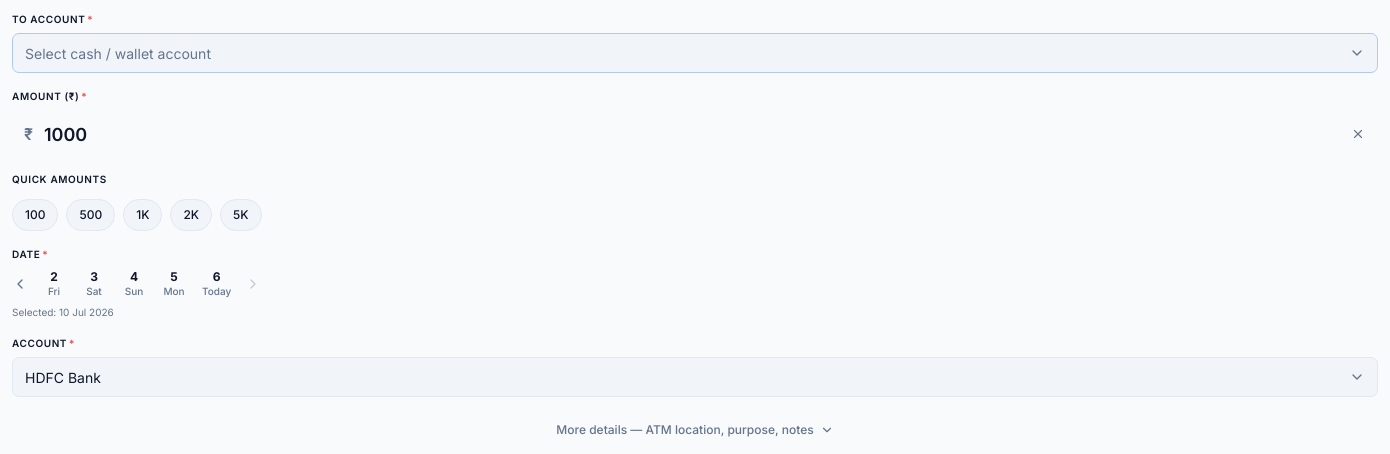
ATMWithdrawalForm › excludes the current source account from the destination options
Step 1. Click the dropdown named "to account" → (118, 53), box [12, 33, 1378, 73]
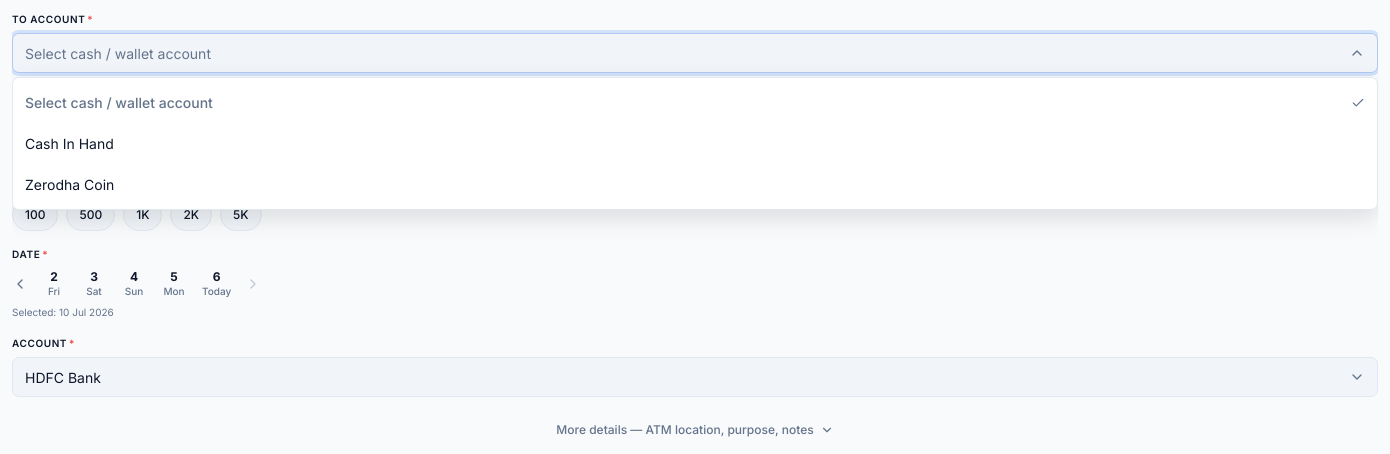
Expected: the option "Cash In Hand" is shown, [25, 135, 114, 152]
Expected: the option "Zerodha Coin" is shown, [25, 176, 114, 193]
